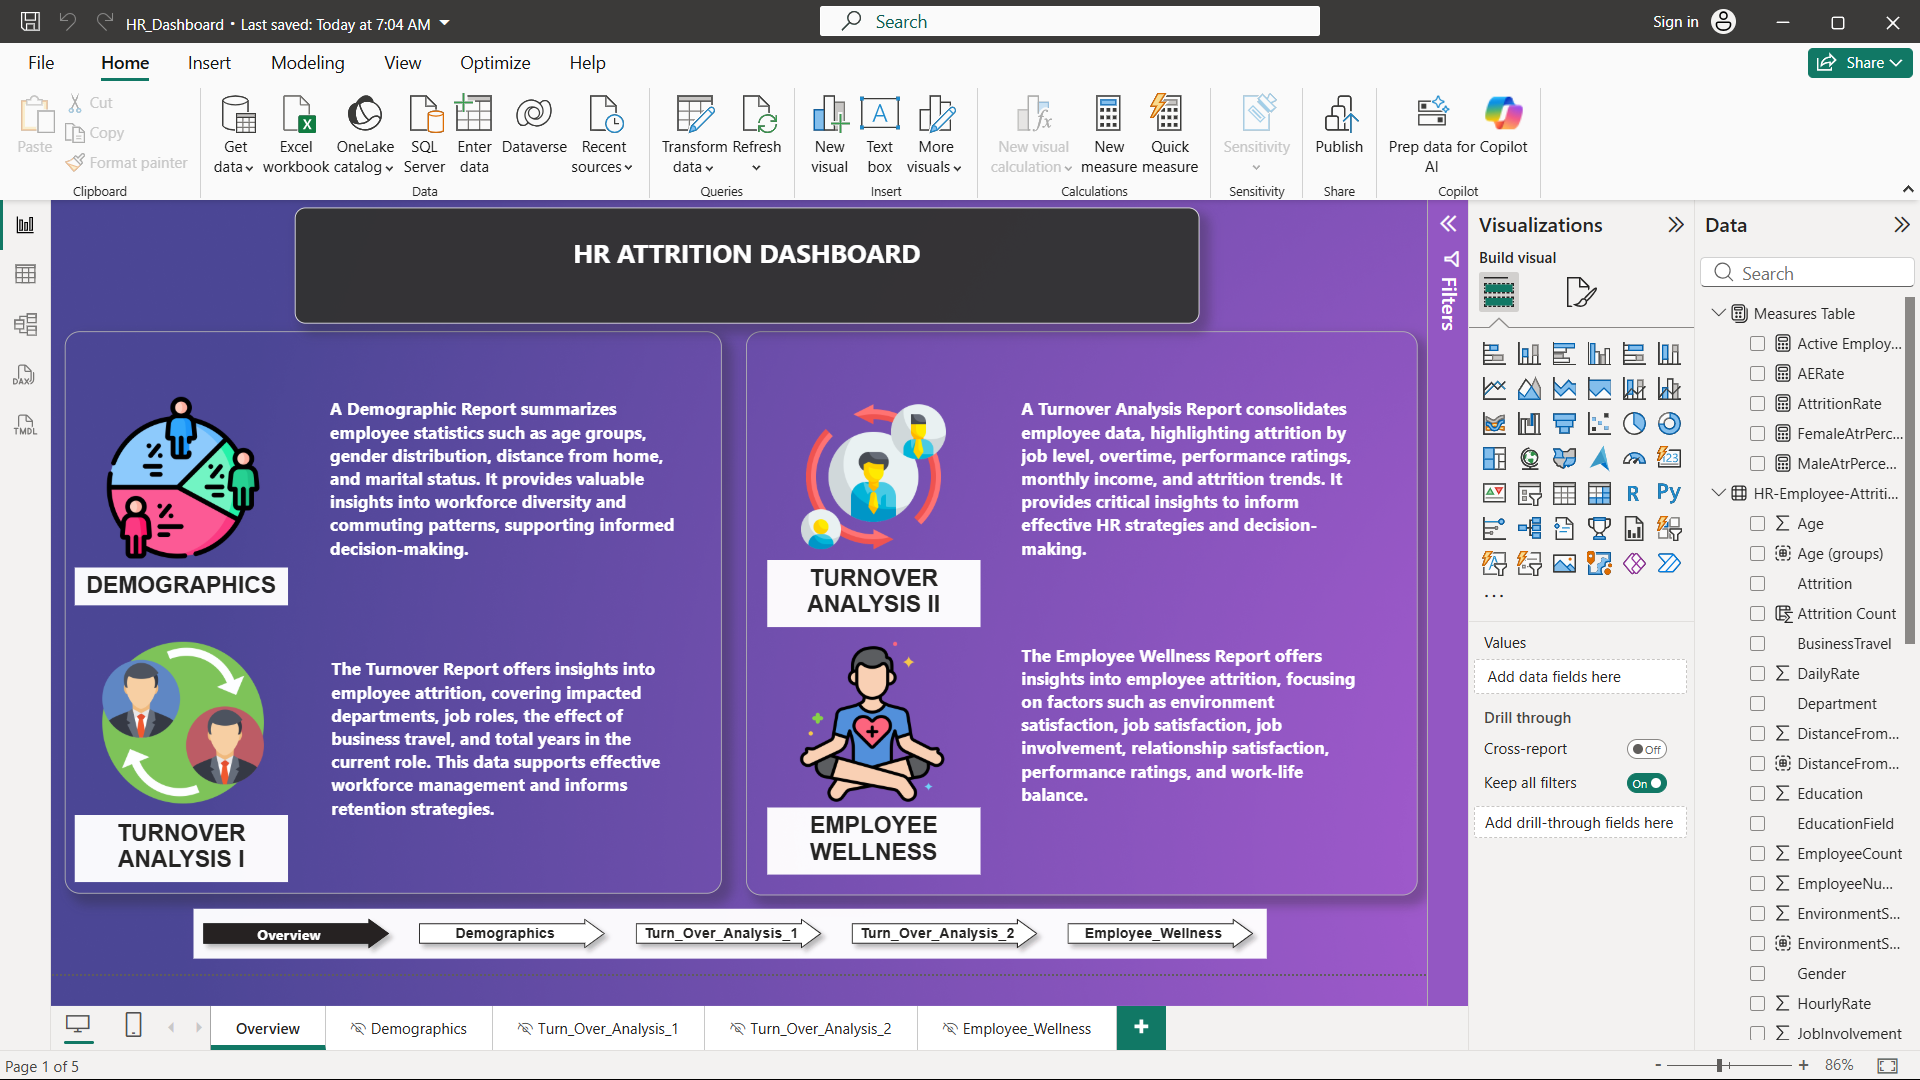

What the dashboard file says about the page in this screenshot:
{"tool":"powerbi","page":{"name":"Overview","canvas":[1280,720],"ordinal":0},"visuals":[{"type":"shape","box":[646.9,122.5,625.1,524.9],"z":0},{"type":"shape","box":[12.2,122.3,611.4,523.4],"z":1000},{"type":"textbox","box":[226.2,7.3,841.3,107.6],"z":2000},{"type":"image","box":[47.7,178.5,150.4,157.7],"z":4000},{"type":"textbox","box":[22,342.4,198.1,35],"z":5000},{"type":"image","box":[47.7,407.2,150.4,157.7],"z":6000},{"type":"textbox","box":[22,572.3,198.1,62.4],"z":7000},{"type":"textbox","box":[255,178,337.2,198],"z":8000},{"type":"textbox","box":[255.6,419.4,336.3,196.9],"z":9000},{"type":"image","box":[690.9,178.5,149.2,156.5],"z":10000},{"type":"textbox","box":[666.4,335.1,198.1,62.4],"z":11000},{"type":"image","box":[690,407,149.2,156.5],"z":12000},{"type":"textbox","box":[666.4,564.9,198.1,62.4],"z":13000},{"type":"textbox","box":[897.5,178,335.5,196.3],"z":14000},{"type":"textbox","box":[897.6,407.2,335.1,196.9],"z":15000},{"type":"pageNavigator","box":[133,658.8,998.4,46.1],"z":16000}]}

Visuals, with their boxes on the page's 1280x720 design canvas (x1, y1, x2, y2). These are canvas units, not pixel positions in the 1920x1080 screenshot, which may show the page scaled, cropped or inside an application window:
shape: region(647, 122, 1272, 647)
shape: region(12, 122, 624, 646)
textbox: region(226, 7, 1068, 115)
image: region(48, 178, 198, 336)
textbox: region(22, 342, 220, 377)
image: region(48, 407, 198, 565)
textbox: region(22, 572, 220, 635)
textbox: region(255, 178, 592, 376)
textbox: region(256, 419, 592, 616)
image: region(691, 178, 840, 335)
textbox: region(666, 335, 864, 398)
image: region(690, 407, 839, 564)
textbox: region(666, 565, 864, 627)
textbox: region(898, 178, 1233, 374)
textbox: region(898, 407, 1233, 604)
pageNavigator: region(133, 659, 1131, 705)
